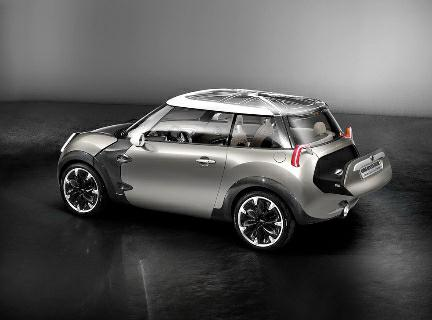MINI-ROCKETMAN: (49, 88, 393, 250)
